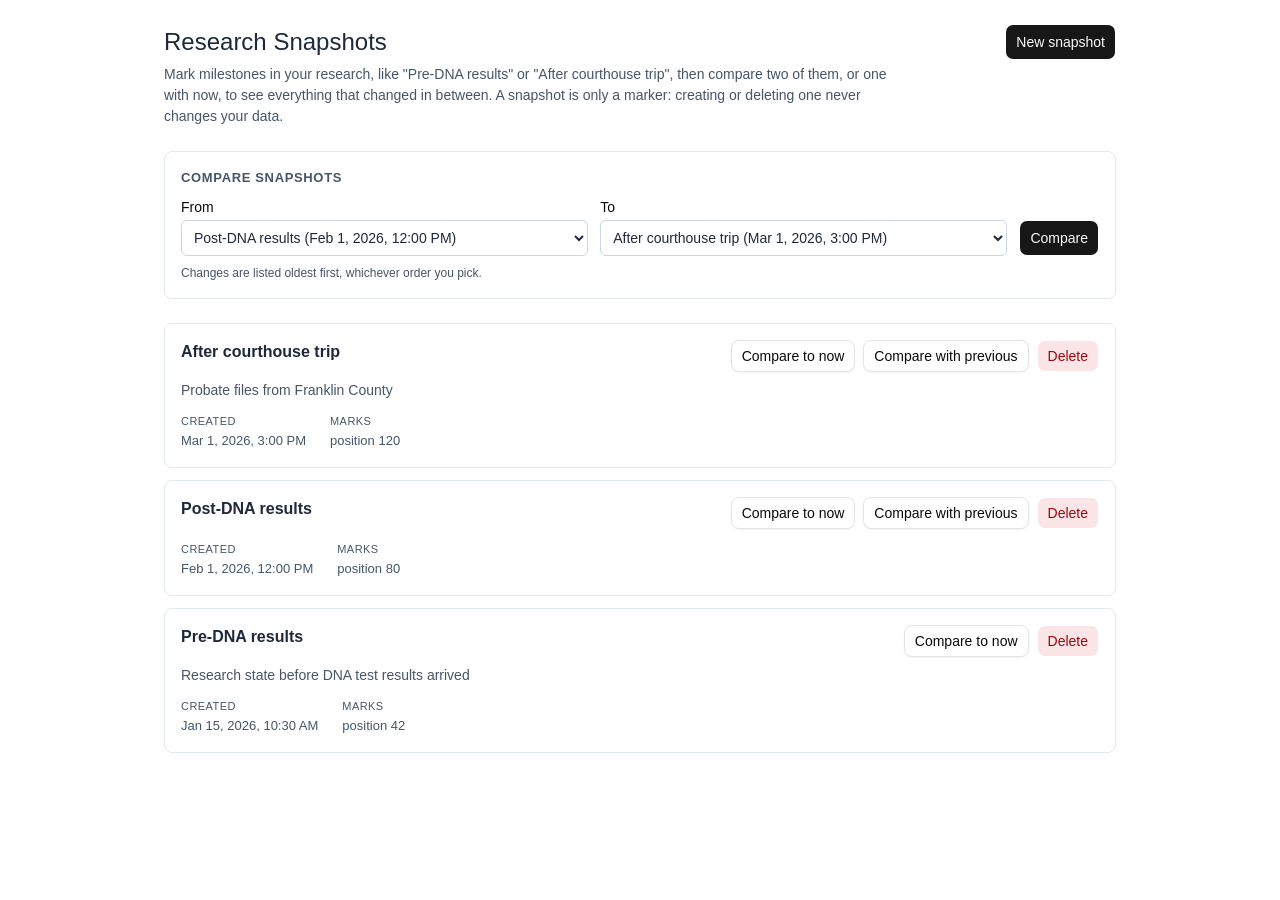
Test case: Snapshots page › delete › keeps the dialog open and shows a failure
Check: the heading "Pre-DNA results" is shown, box [181,624,303,648]
Click the button with aria-label "Delete snapshot Pre-DNA results": (1068, 640) [1036,624,1099,656]
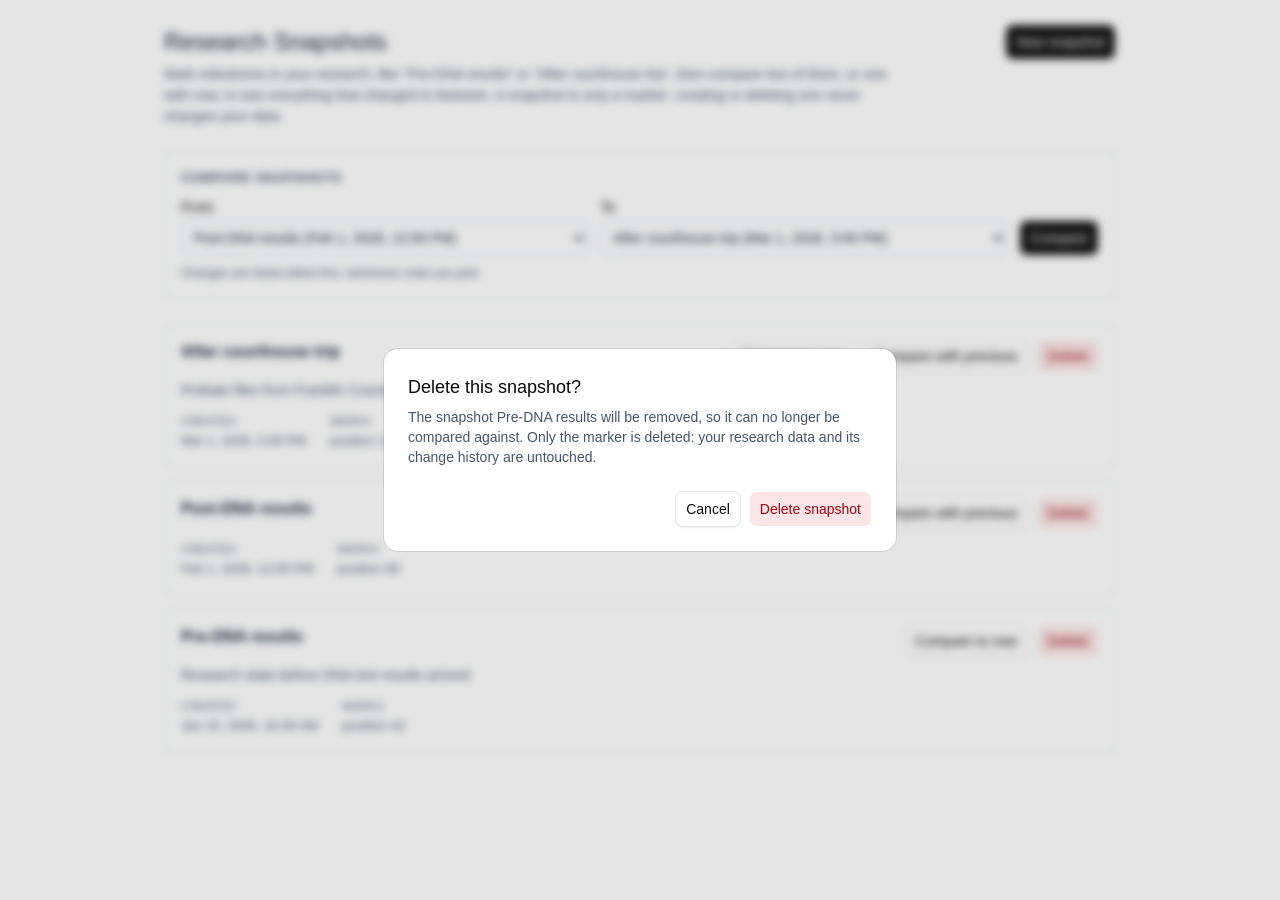
Click the button "Delete snapshot": (810, 509) [749,491,872,527]
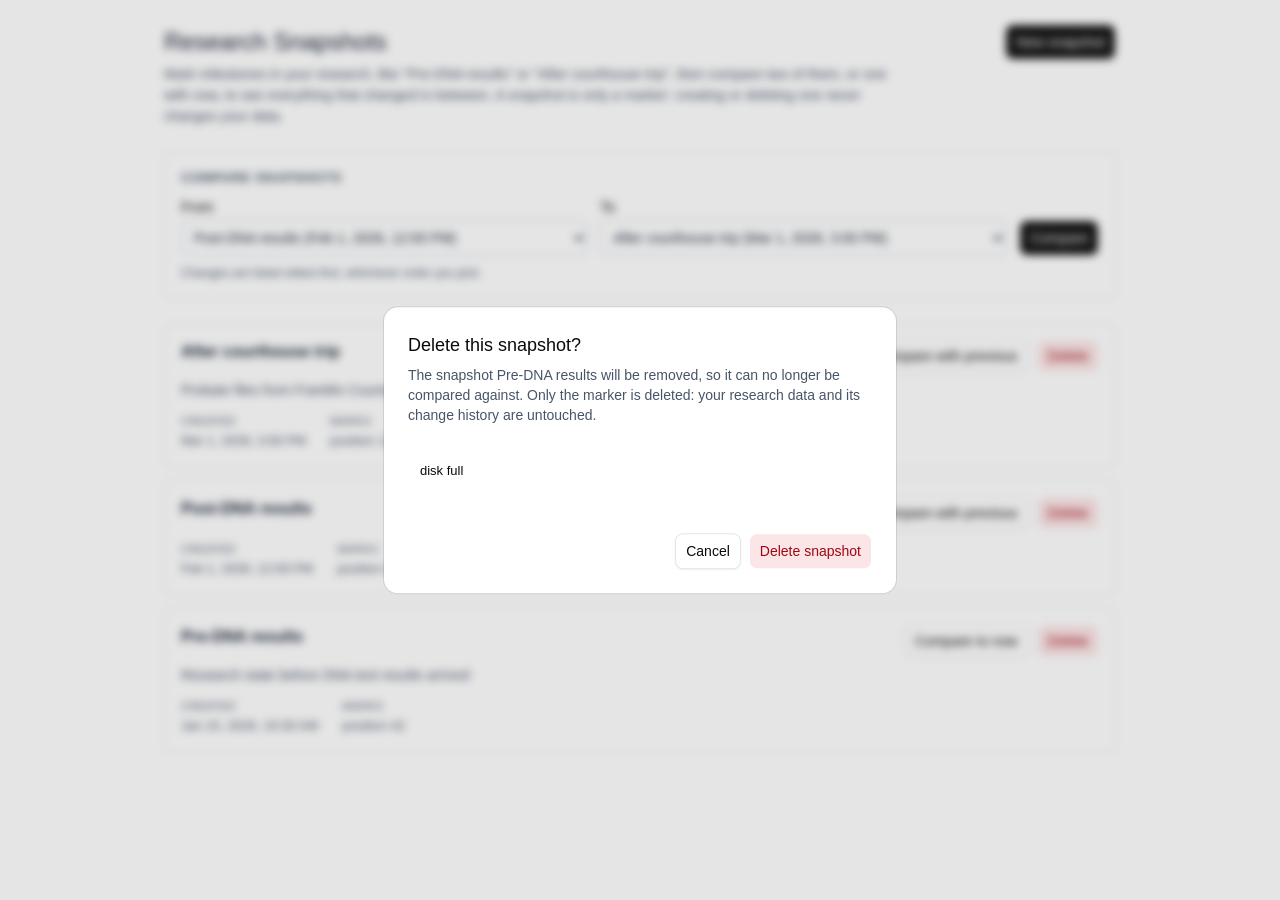
Check: the heading "Delete this snapshot?" is shown, box [408,331,581,359]
Check: the text "disk full" is shown, box [420,463,463,478]
